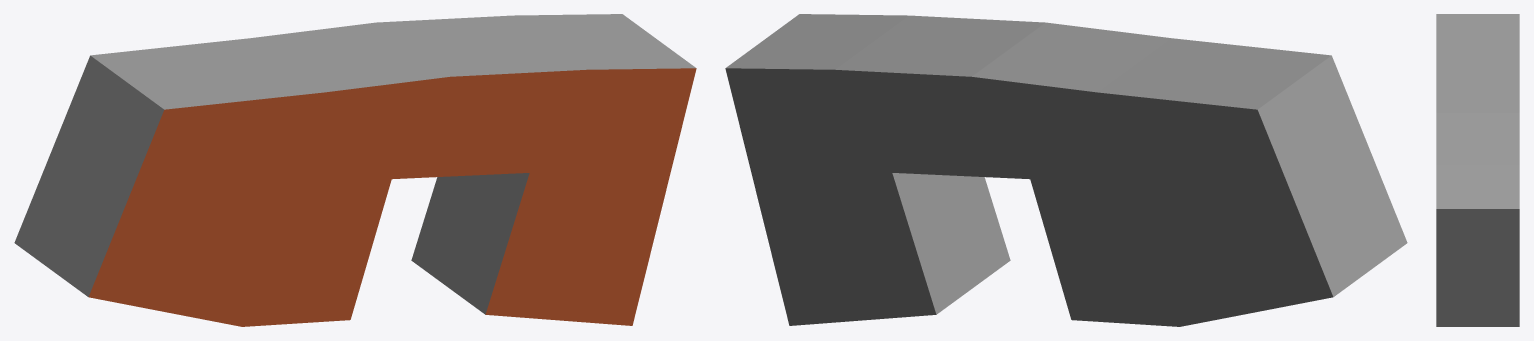
The model's file is construction_5238_assumed_A_Casa_h6m.obj.
3 views of the same model, side by side, from view 1: azimuth 30°, elevation 25°; view 2: azimuth 150°, elevation 25°; view 3: azimuth 270°, elevation 25° (orthographic). The views are drawn at different scales.
Visible parts, largest first — view 1: construction_5238_assumed_A_Casa; view 2: construction_5238_assumed_A_Casa; view 3: construction_5238_assumed_A_Casa.
Boxes of the visible parts, bbox=[...] form: construction_5238_assumed_A_Casa: bbox=[14, 14, 696, 326]; construction_5238_assumed_A_Casa: bbox=[725, 14, 1407, 326]; construction_5238_assumed_A_Casa: bbox=[1436, 14, 1519, 326].
Bounding box in the file's own units: 28.41 × 14.76 × 6.
